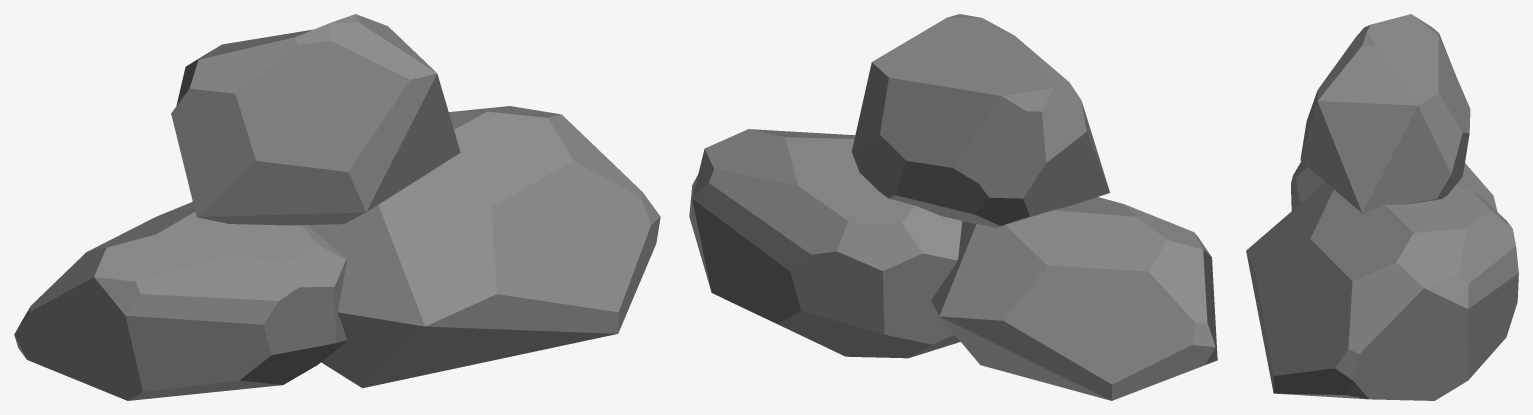
The model's file is RockBundle 3fbx.fbx.
The picture shows the model from 3 angles, left to right: view 1: azimuth 30°, elevation 25°; view 2: azimuth 150°, elevation 25°; view 3: azimuth 270°, elevation 25°; orthographic projection. The views are drawn at different scales.
Visible parts, largest first — view 1: Icosphere.006; view 2: Icosphere.006; view 3: Icosphere.006.
Part boxes in pixels (bbox=[...]): Icosphere.006: bbox=[14, 14, 660, 400]; Icosphere.006: bbox=[689, 14, 1217, 400]; Icosphere.006: bbox=[1246, 14, 1518, 400].
Bounding box in the file's own units: 1.08 × 0.6126 × 0.5084.
